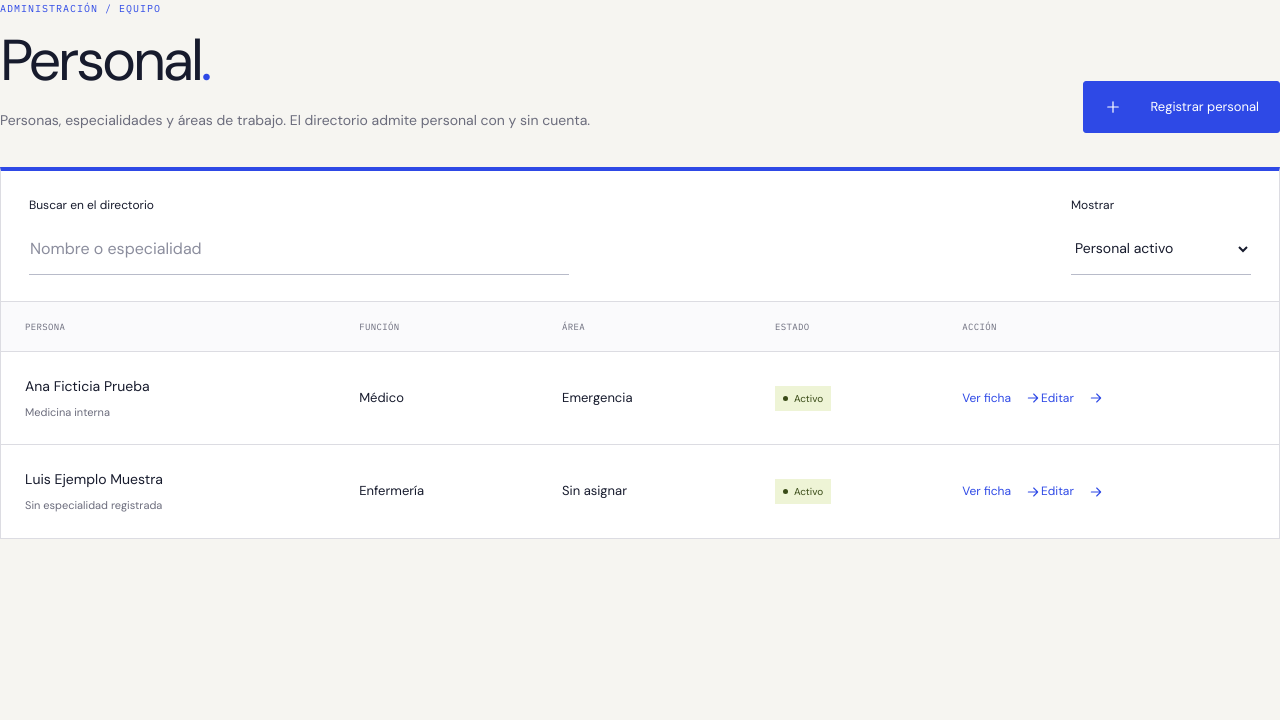
Test case: W08 · ficha de personal › avisa cuando no hay inscripciones ni turnos próximos
Click the button with aria-label "Ver ficha de Luis" at (1002, 492), box left=962, top=470, right=1041, bottom=514
(page scrolled)
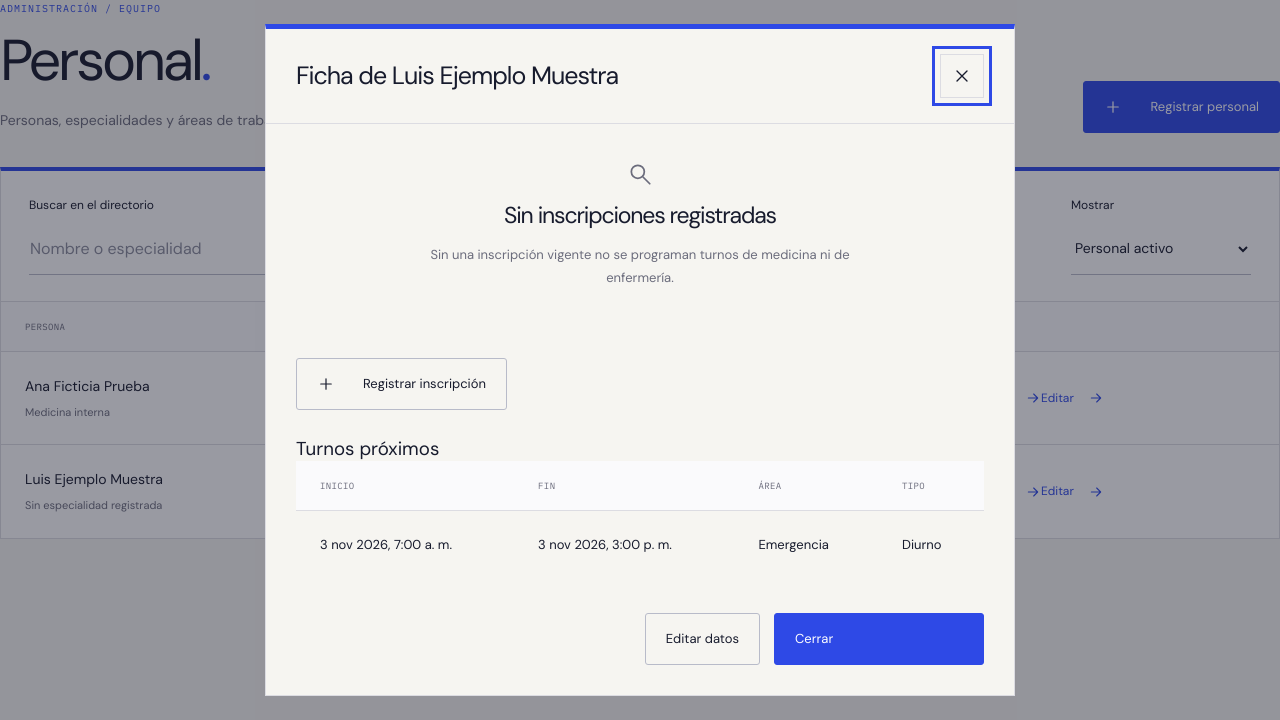
expect the heading "Sin inscripciones registradas" is shown: met, box left=504, top=200, right=776, bottom=230
expect the table named "Turnos próximos publicados" is shown: met, box left=296, top=461, right=984, bottom=579
